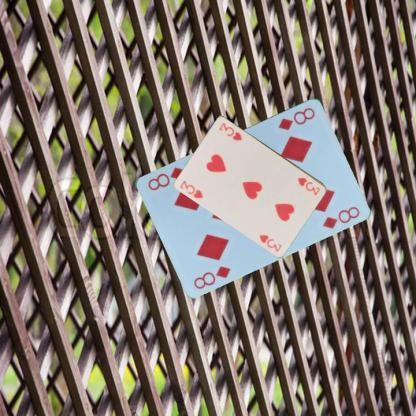3h: (295, 174, 321, 197), (177, 178, 204, 200)
8d: (190, 262, 232, 290), (276, 104, 316, 131)
